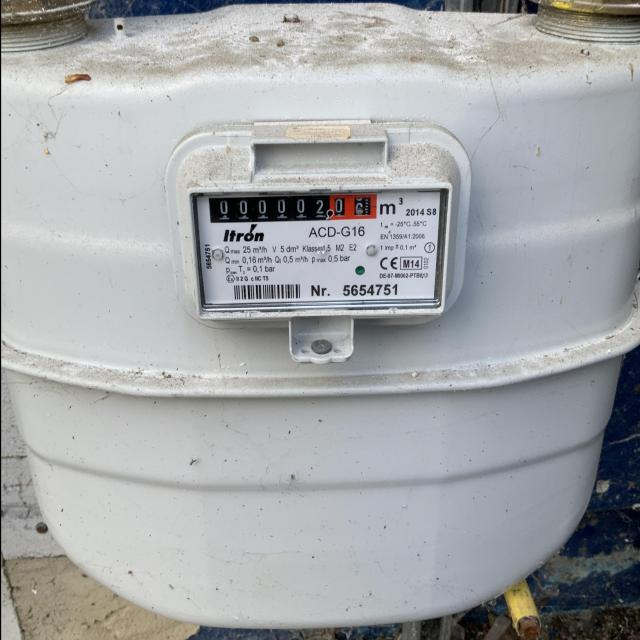gaz_meter: (190, 194, 439, 300)
indication: (211, 190, 377, 226)
